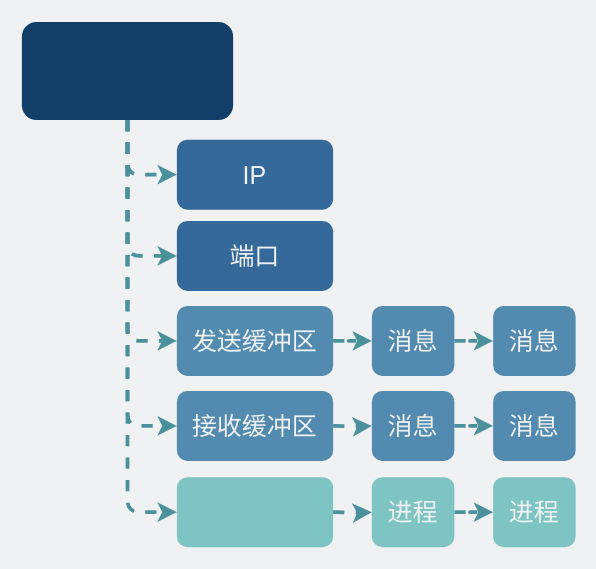
The diagram is 596 pixels wide and 569 high, and some of its shapes have lost their labels. The box of each missing label's shape, as (x1, y1, x2, y2) in pixels:
sock: (21, 21, 232, 119)
等待队列: (176, 476, 332, 546)
